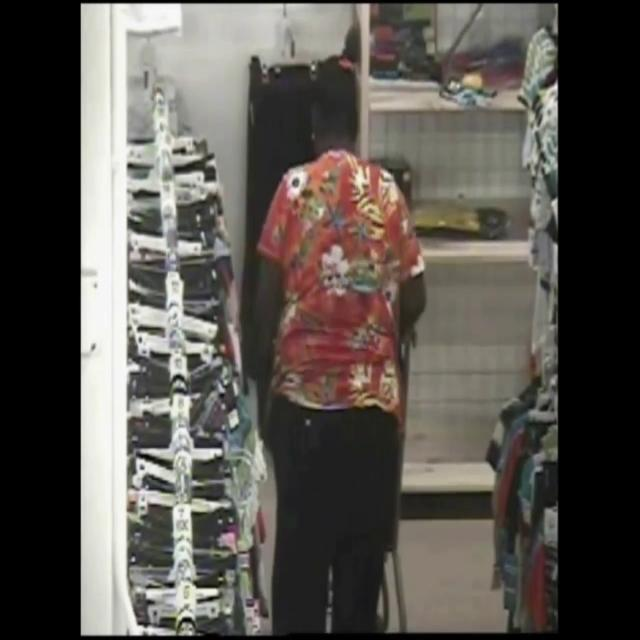normal: (222, 18, 450, 640)
